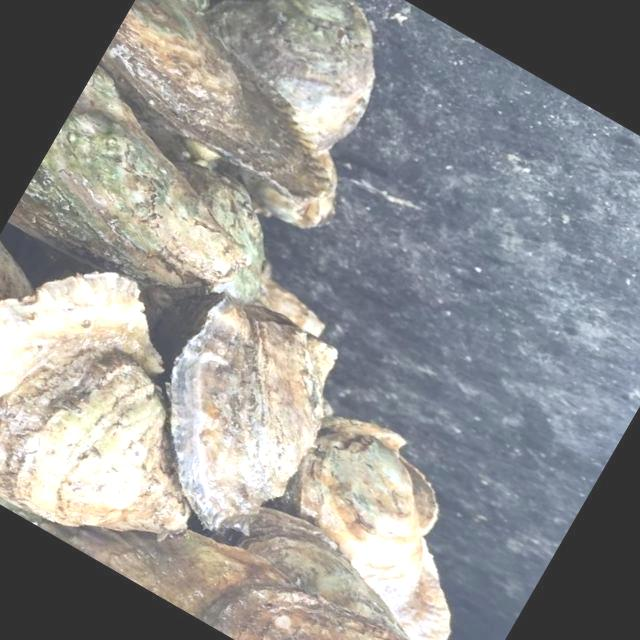Oyster-Closed: (4, 68, 254, 288), (0, 275, 193, 535), (18, 512, 403, 640), (110, 0, 323, 210), (171, 290, 337, 531), (290, 418, 452, 640), (205, 0, 374, 145), (237, 508, 405, 640)
